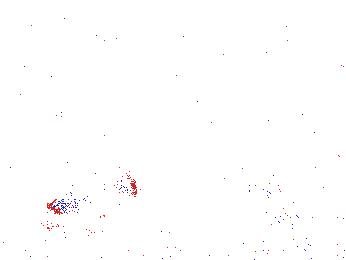flame jellyfish: (48, 162, 136, 218), (273, 172, 346, 228), (245, 158, 296, 207)
